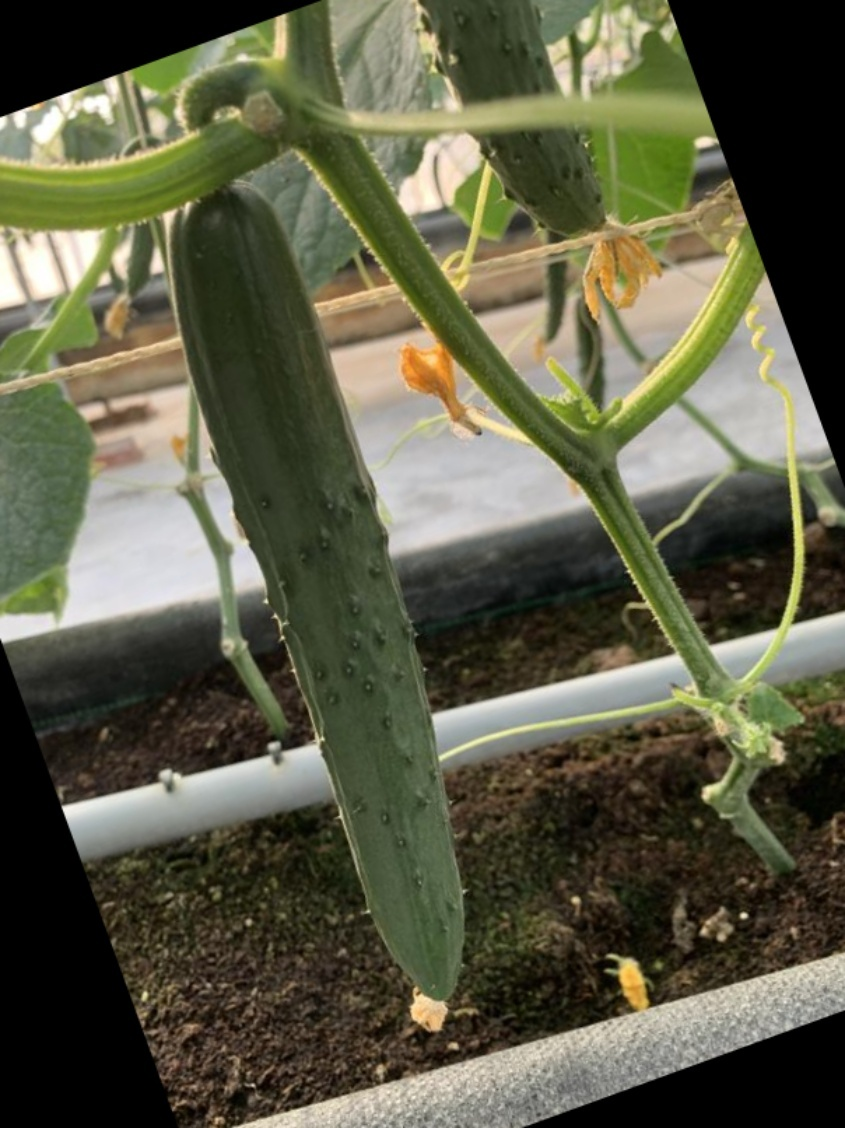mature: (119, 154, 516, 1021)
